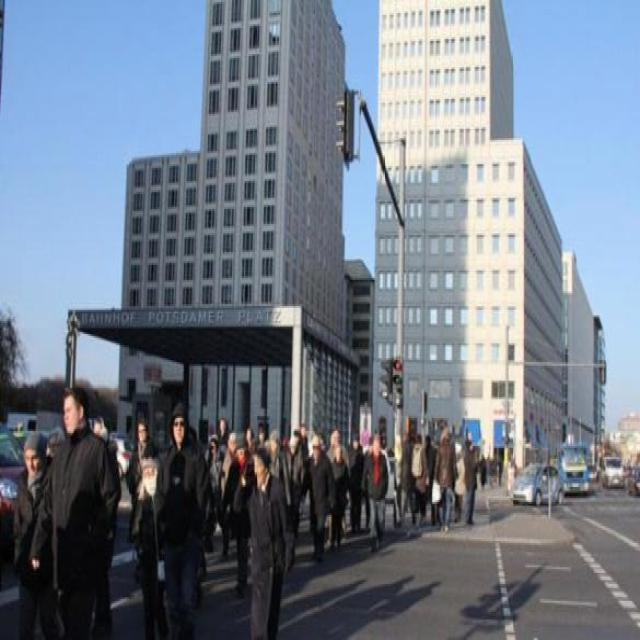non-fight: (20, 386, 124, 638), (157, 405, 222, 638), (231, 433, 299, 638)
